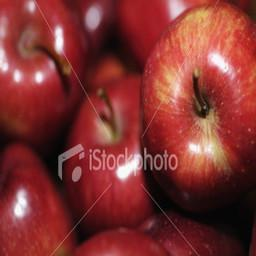apple: (138, 3, 253, 217), (55, 76, 153, 233), (1, 152, 74, 256)
